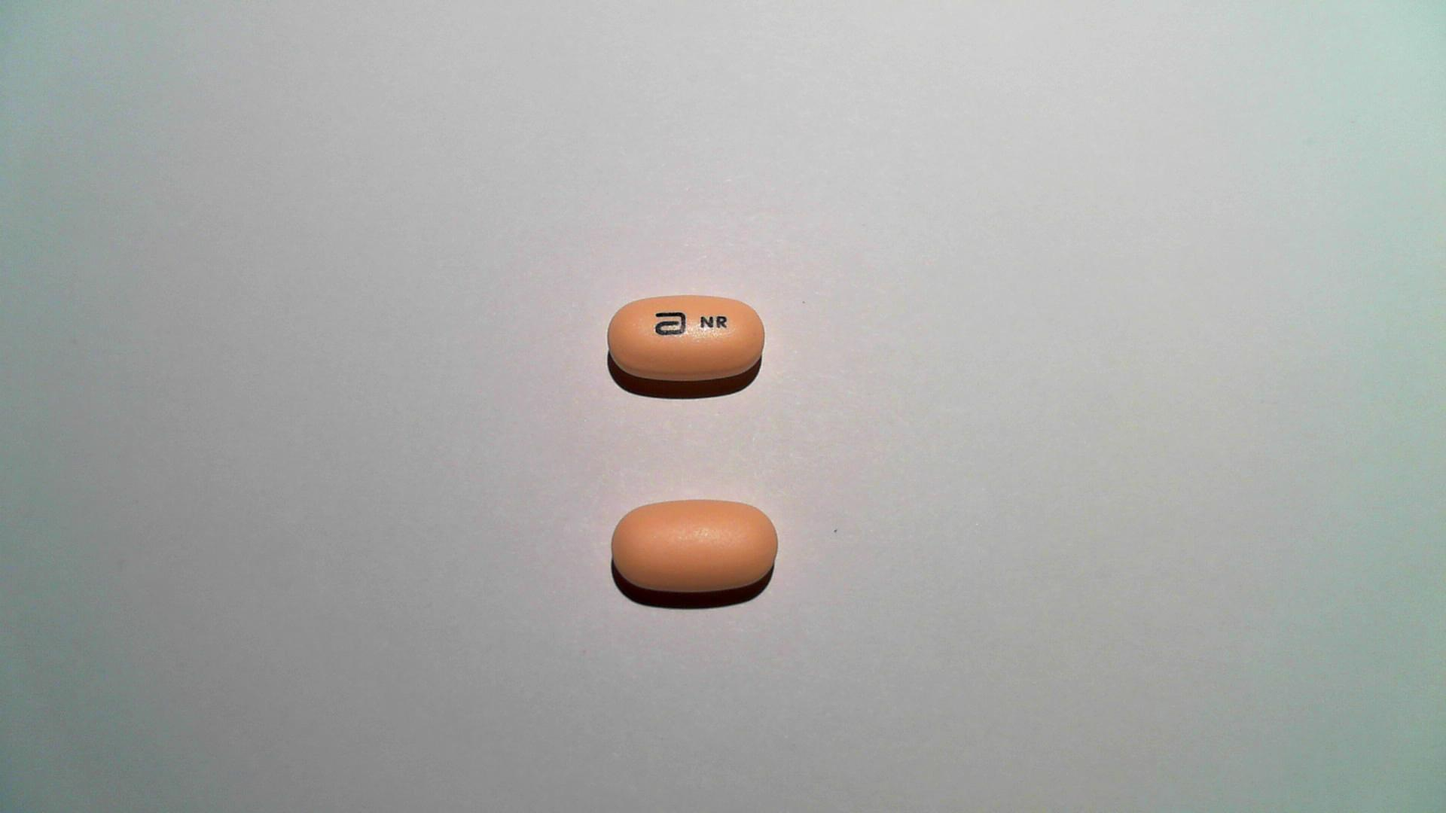Pill: (607, 488, 783, 605), (599, 288, 770, 390)
